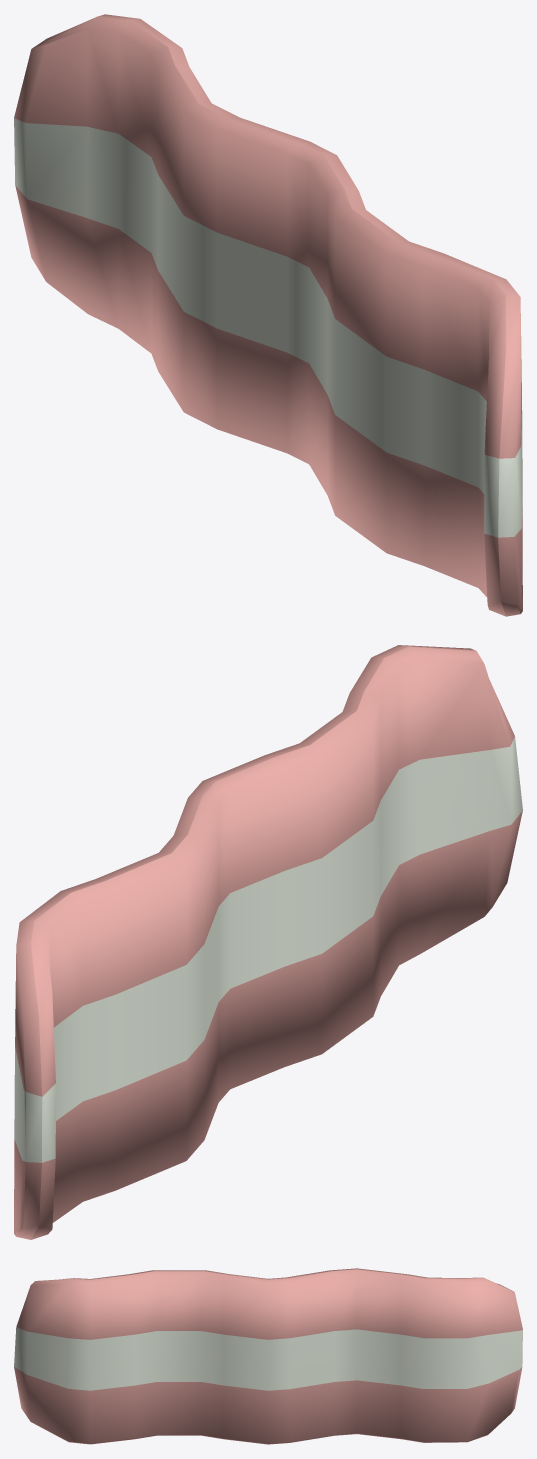
The model's file is bacon.fbx.
The picture shows the model from 3 angles, top to bottom: view 1: azimuth 30°, elevation 25°; view 2: azimuth 150°, elevation 25°; view 3: azimuth 270°, elevation 25°; orthographic projection. The views are drawn at different scales.
Visible parts, largest first — view 1: bacon1; view 2: bacon1; view 3: bacon1.
Boxes of the visible parts, box(x1,y1,x2,y2) form: bacon1: box(14, 14, 522, 616); bacon1: box(14, 645, 522, 1239); bacon1: box(14, 1268, 522, 1444).
Size of the model in its own units: 1.71 by 6.03 by 17.09.
